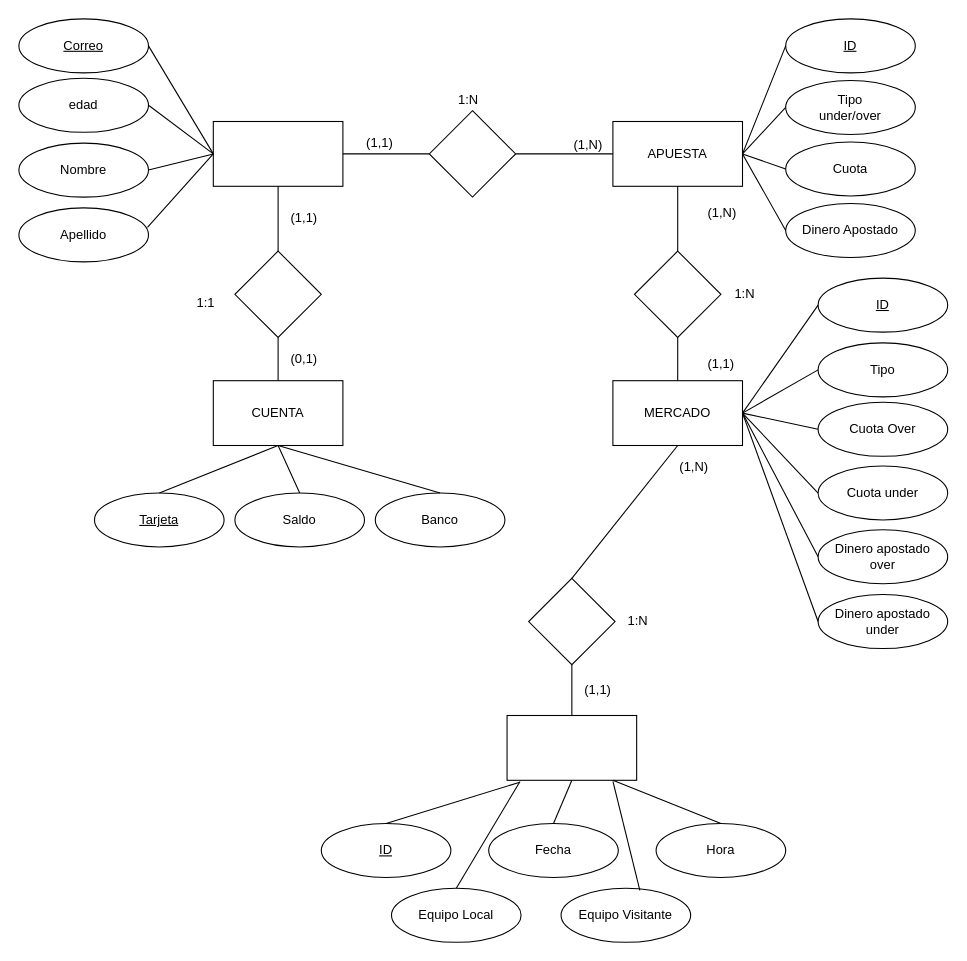
The diagram is 967 pixels wide and 961 high, and some of its shapes have lost their labels. Each missing label, with the box of its shape:
contiene: (528, 577, 615, 665)
Donde: (633, 250, 721, 338)
EVENTO: (506, 714, 637, 780)
realiza: (428, 110, 516, 197)
tiene: (234, 250, 321, 338)
USUARIO: (212, 120, 343, 186)
